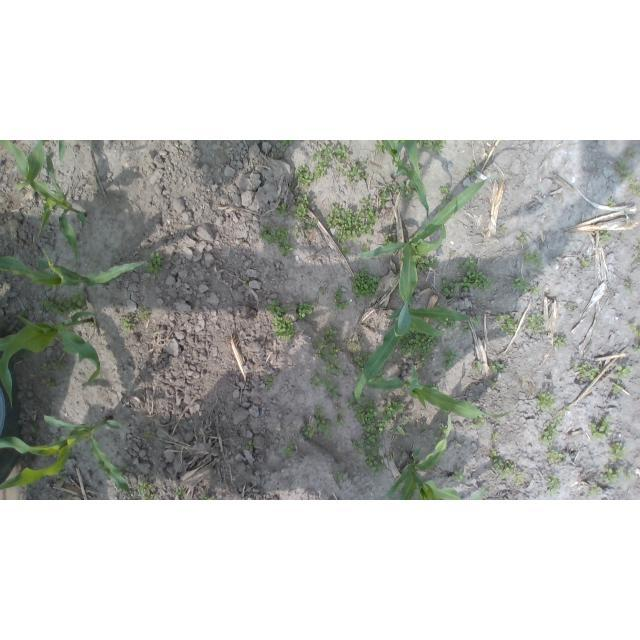Maize: (357, 174, 510, 338), (353, 309, 481, 408), (0, 141, 90, 274), (353, 355, 522, 421), (0, 414, 132, 498), (378, 413, 492, 500), (1, 314, 102, 410), (2, 243, 149, 289), (375, 140, 430, 221)
Weeds: (349, 391, 405, 473), (324, 196, 377, 244), (294, 146, 349, 191), (441, 254, 491, 298), (490, 430, 527, 486), (311, 326, 345, 376), (301, 405, 347, 439), (266, 300, 297, 341), (258, 223, 294, 257), (40, 290, 88, 315), (289, 194, 318, 235), (310, 370, 344, 403), (376, 181, 416, 209), (398, 331, 434, 362), (352, 266, 381, 298), (120, 304, 152, 333), (614, 161, 640, 196), (345, 339, 367, 379), (588, 413, 613, 441), (604, 466, 636, 486), (570, 360, 599, 382), (509, 277, 539, 298), (414, 255, 441, 274), (346, 161, 367, 184), (145, 252, 161, 281), (524, 313, 546, 334), (524, 249, 546, 270), (496, 314, 517, 335), (333, 287, 349, 312), (542, 420, 558, 443), (136, 482, 157, 499), (417, 141, 447, 152), (537, 392, 555, 410), (608, 442, 626, 460), (462, 316, 482, 332), (40, 362, 64, 375), (435, 317, 457, 331), (298, 301, 314, 319), (550, 334, 568, 350), (435, 424, 448, 444), (547, 449, 565, 463), (562, 301, 580, 314), (615, 364, 633, 377), (382, 234, 398, 248), (438, 184, 452, 200), (547, 479, 562, 493), (276, 203, 289, 217), (41, 377, 55, 390), (452, 469, 465, 483), (492, 363, 505, 377), (333, 471, 345, 486), (600, 230, 612, 244), (464, 163, 476, 177), (285, 444, 296, 459), (466, 419, 484, 428), (626, 280, 635, 296), (613, 380, 624, 393), (203, 489, 216, 500), (558, 408, 571, 419), (590, 487, 603, 498), (632, 252, 640, 269), (516, 232, 527, 244), (341, 245, 352, 256), (581, 258, 591, 270), (630, 321, 639, 334), (373, 372, 387, 380), (265, 375, 273, 389), (360, 244, 371, 254), (245, 440, 254, 451), (632, 342, 640, 353), (607, 198, 615, 207), (143, 430, 152, 438), (174, 490, 183, 497), (627, 150, 634, 157), (283, 141, 292, 146), (491, 383, 498, 389)
